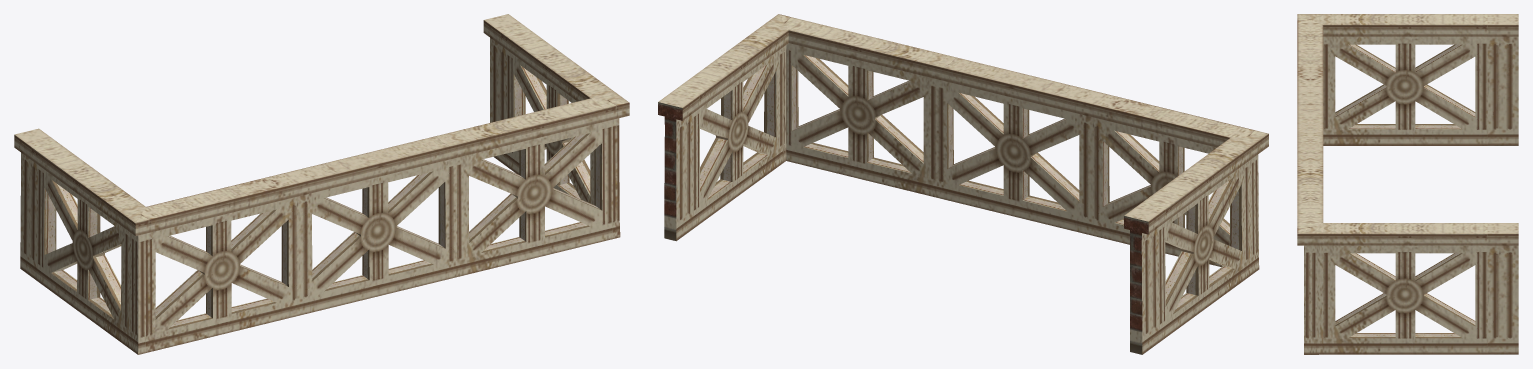
The model's file is svspartarail2.dae.
3 views of the same model, side by side, from view 1: azimuth 30°, elevation 25°; view 2: azimuth 150°, elevation 25°; view 3: azimuth 270°, elevation 25° (orthographic). The views are drawn at different scales.
Visible parts, largest first — view 1: unnamed_object29_cut34-0; view 2: unnamed_object29_cut34-0; view 3: unnamed_object29_cut34-0.
Boxes of the visible parts, x1,y1,x2,y2 form: unnamed_object29_cut34-0: (14,14,629,354); unnamed_object29_cut34-0: (658,14,1268,354); unnamed_object29_cut34-0: (1297,14,1518,354).
Size of the model in its own units: 300 by 78.75 by 128.
